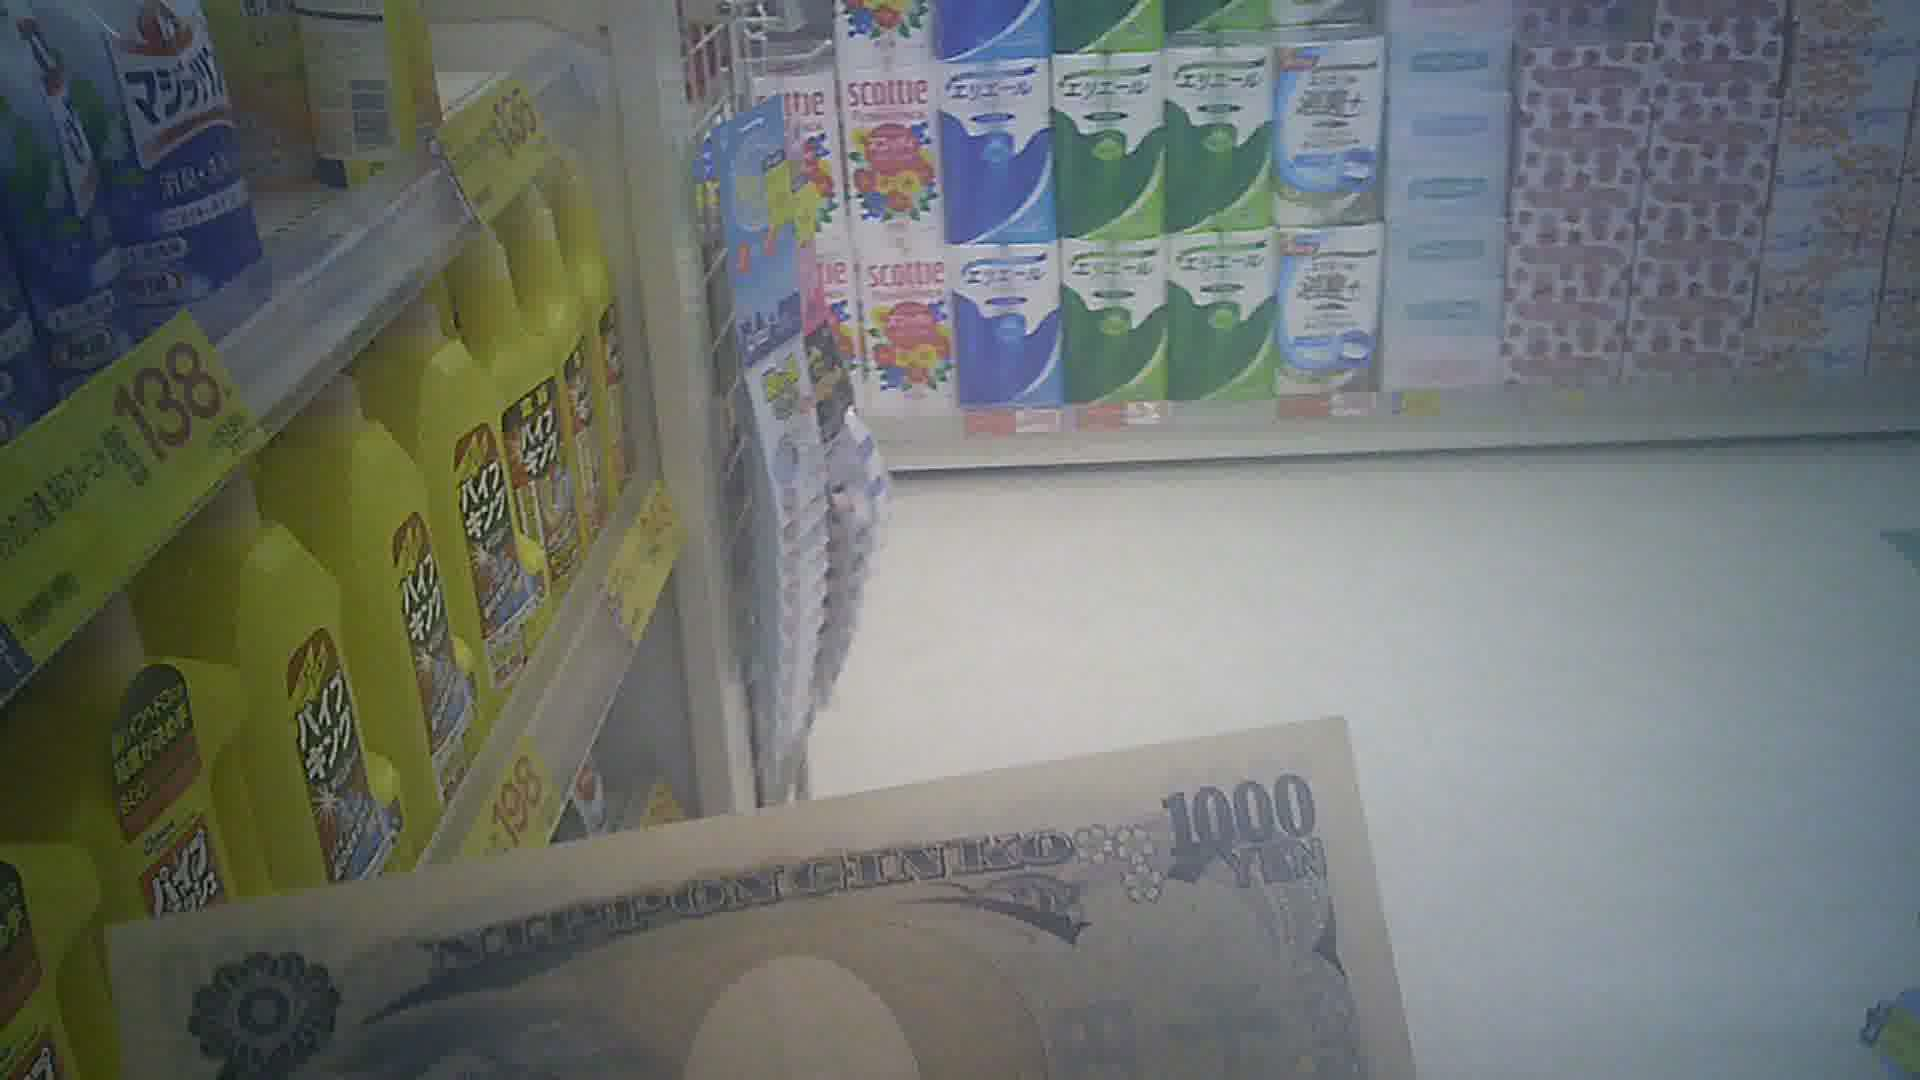1,000 Yen: (102, 721, 1422, 1073)
